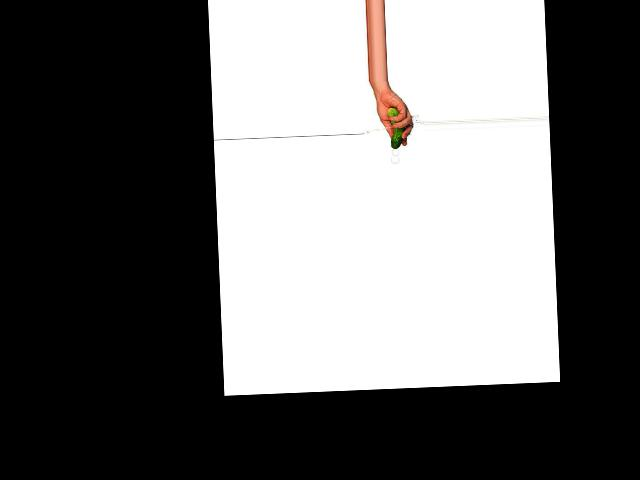cucumber: (388, 106, 405, 149)
